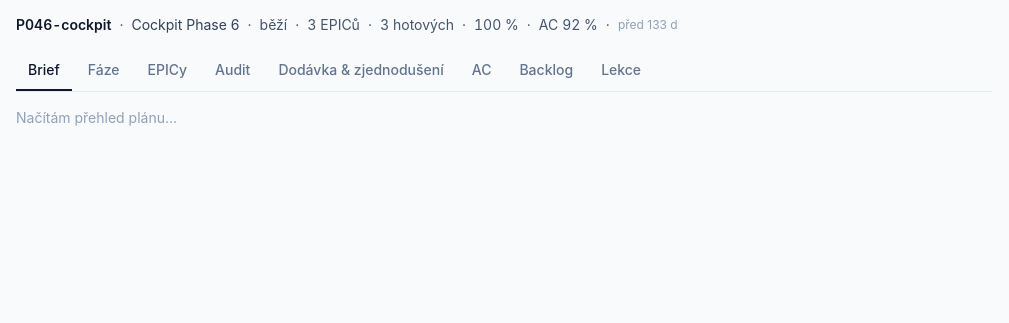
Test: ScreenPlan — plan detail tabs › present:false on both delivery + simplifier → "zatím neběžel", no fabricated outcome
Expected: the element that starts with "P046-cockpit" is shown, [16,16,678,33]
Click the tab "Dodávka & zjednodušení".
click(361, 71)  # box [266,51,456,91]
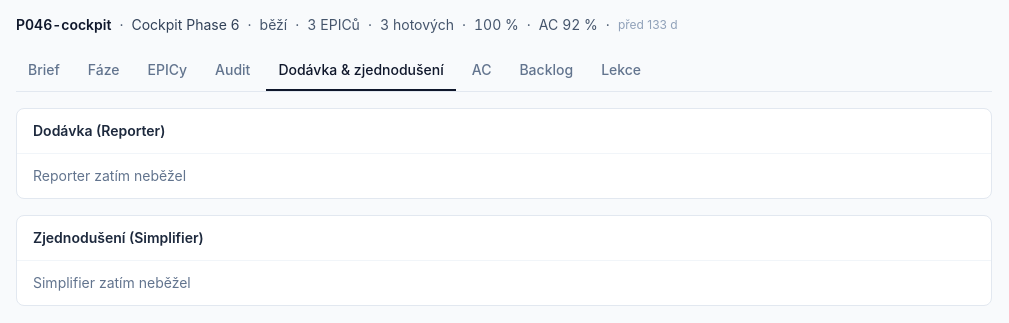
Now the text "Reporter zatím neběžel" is shown, box [33,167,186,184]
Now the text "Simplifier zatím neběžel" is shown, box [33,274,191,291]
